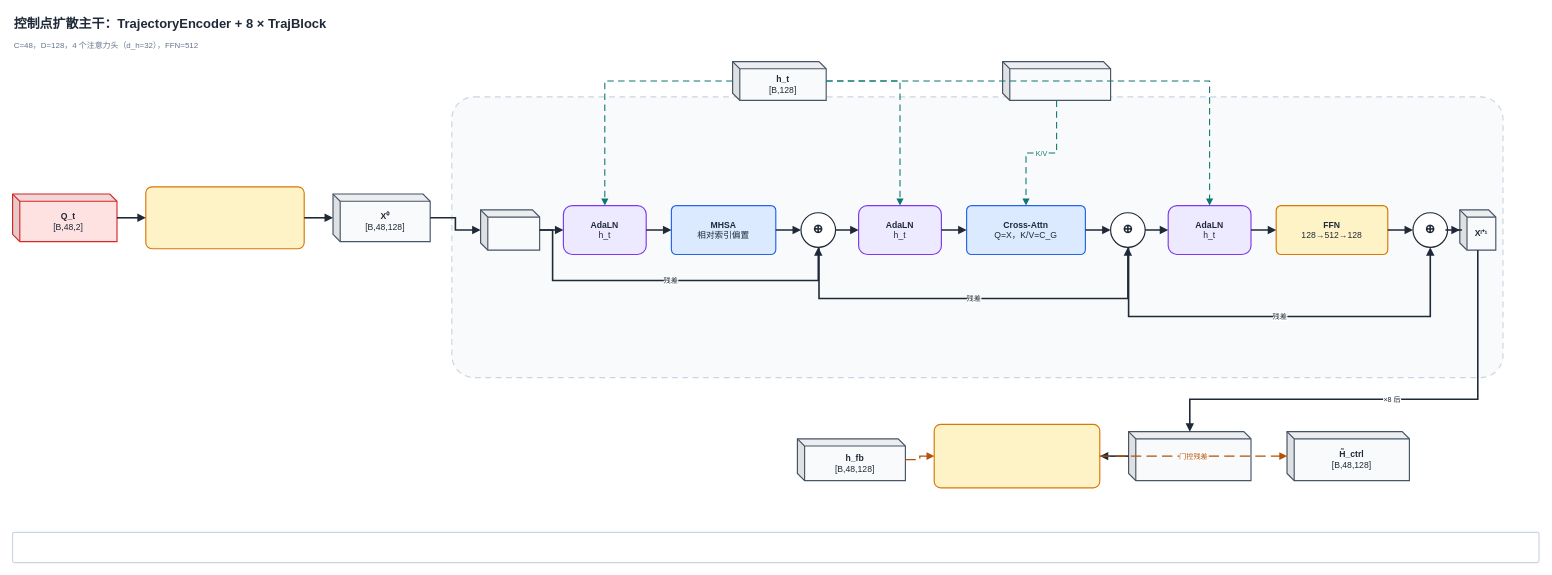
The diagram is 1552 pixels wide and 575 high, and some of its shapes have lost their labels. Here are the shapes that lost their labels. From the top down, the box of each, then its label:
(1002, 61, 1111, 101): C_G [B,256,128]
(145, 186, 304, 249): TrajectoryEncoder Φ_xy + MLP + PE_1D
(480, 209, 540, 250): Xˡ
(451, 96, 1503, 378): TrajBlock ℓ（重复 8 次，参数独立）
(933, 424, 1100, 488): FeedbackFusion σ(W[H_ctrl;h_fb]) ⊙ h_fb
(1128, 431, 1251, 481): H_ctrl [B,48,128]
(12, 532, 1539, 563): 统一标记 ▱ 张量 ■ 注意力 ■ AdaLN ■ MLP/投影 □ 固定算子 ┄ 条件注入 ┄ 跨步反馈
